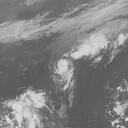cyclone: (53, 58, 78, 98)
